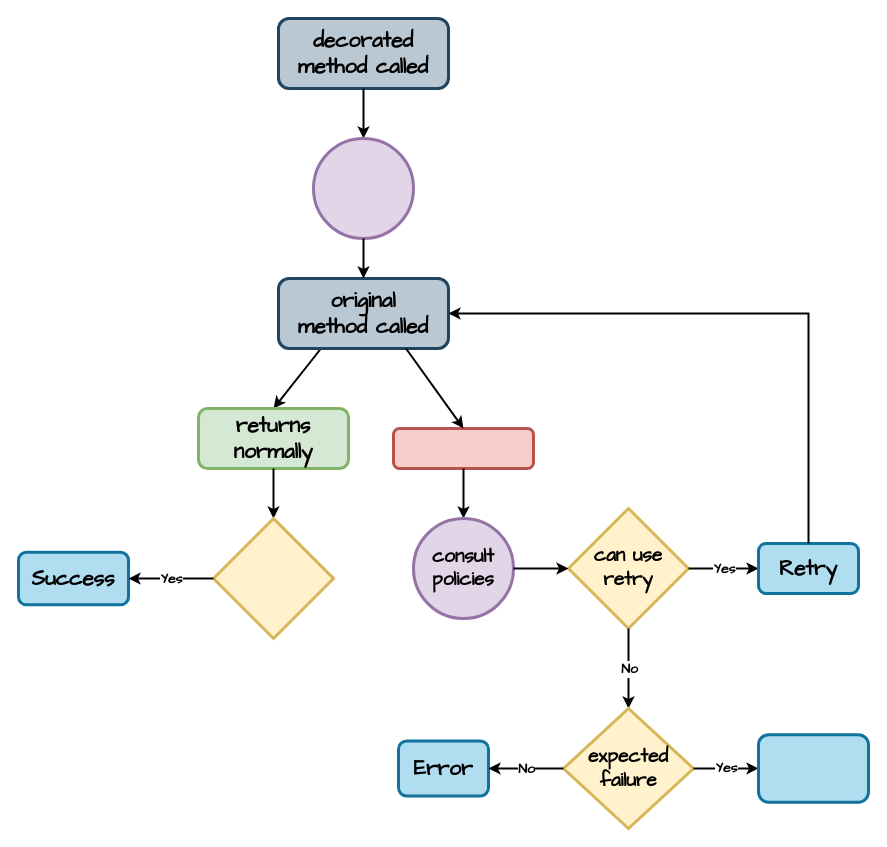
Image size: 887x847. Some labels were removed from this diagram. Each missing label, with the centre of its shape:
create context: the point at 363,188
fails: the point at 463,448
Ignored Error: the point at 813,768
retried once: the point at 273,578
